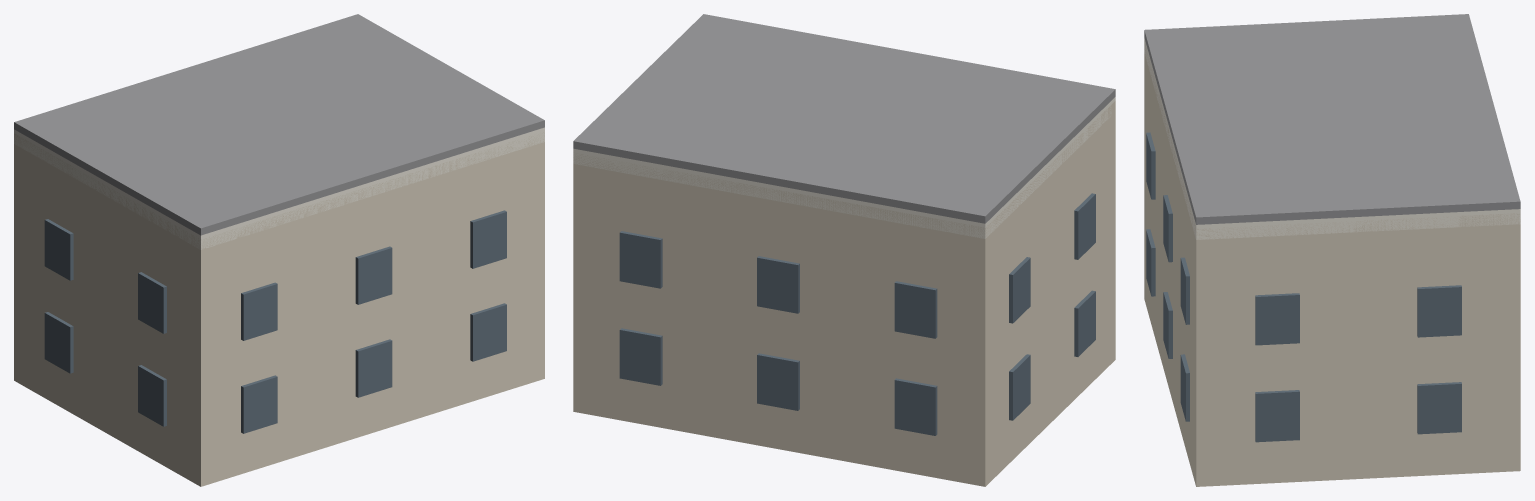
The model's file is s52_gis_248169_820665.glb.
The picture shows the model from 3 angles, left to right: view 1: azimuth 30°, elevation 25°; view 2: azimuth 150°, elevation 25°; view 3: azimuth 270°, elevation 25°; orthographic projection. The views are drawn at different scales.
Parts seen in each view (by area): view 1: mass, roofcap, cornice, win_2_0_1, win_2_1_1, win_2_0_0, win_2_0_2, win_2_1_0, win_2_1_2, win_1_1_0, win_1_0_0, win_1_0_1 (+1 smaller); view 2: mass, roofcap, cornice, win_0_0_0, win_0_0_2, win_0_1_2, win_0_1_0, win_0_0_1, win_0_1_1, win_1_0_0, win_1_1_1, win_1_1_0 (+1 smaller); view 3: mass, roofcap, cornice, win_3_1_0, win_3_0_0, win_3_0_1, win_3_1_1, win_2_0_0, win_2_1_0, win_2_0_2, win_2_1_2, win_2_1_1 (+1 smaller).
Part boxes in pixels (x1=…): mass: x1=14, y1=132, x2=544, y2=486; roofcap: x1=14, y1=14, x2=544, y2=235; cornice: x1=14, y1=127, x2=544, y2=249; win_2_0_1: x1=355, y1=339, x2=392, y2=397; win_2_1_1: x1=355, y1=246, x2=392, y2=304; win_2_0_0: x1=241, y1=375, x2=277, y2=433; win_2_0_2: x1=470, y1=303, x2=506, y2=361; win_2_1_0: x1=241, y1=282, x2=277, y2=340; win_2_1_2: x1=470, y1=210, x2=506, y2=268; win_1_1_0: x1=44, y1=219, x2=73, y2=280; win_1_0_0: x1=44, y1=312, x2=73, y2=373; win_1_0_1: x1=138, y1=365, x2=166, y2=426; mass: x1=573, y1=101, x2=1115, y2=486; roofcap: x1=573, y1=14, x2=1115, y2=223; cornice: x1=573, y1=97, x2=1115, y2=238; win_0_0_0: x1=619, y1=328, x2=662, y2=385; win_0_0_2: x1=894, y1=378, x2=937, y2=435; win_0_1_2: x1=894, y1=281, x2=937, y2=338; win_0_1_0: x1=619, y1=231, x2=662, y2=288; win_0_0_1: x1=757, y1=353, x2=799, y2=410; win_0_1_1: x1=757, y1=256, x2=799, y2=313; win_1_0_0: x1=1009, y1=354, x2=1030, y2=420; win_1_1_1: x1=1074, y1=193, x2=1095, y2=259; win_1_1_0: x1=1009, y1=257, x2=1030, y2=323; mass: x1=1144, y1=49, x2=1520, y2=486; roofcap: x1=1144, y1=14, x2=1520, y2=224; cornice: x1=1144, y1=38, x2=1520, y2=239; win_3_1_0: x1=1255, y1=293, x2=1299, y2=345; win_3_0_0: x1=1255, y1=390, x2=1299, y2=442; win_3_0_1: x1=1417, y1=382, x2=1461, y2=434; win_3_1_1: x1=1417, y1=285, x2=1461, y2=337; win_2_0_0: x1=1146, y1=229, x2=1155, y2=296; win_2_1_0: x1=1146, y1=132, x2=1155, y2=199; win_2_0_2: x1=1180, y1=354, x2=1189, y2=421; win_2_1_2: x1=1180, y1=257, x2=1189, y2=324; win_2_1_1: x1=1163, y1=195, x2=1172, y2=262.
Size of the model in its own units: 13.52 by 8.35 by 10.56.
